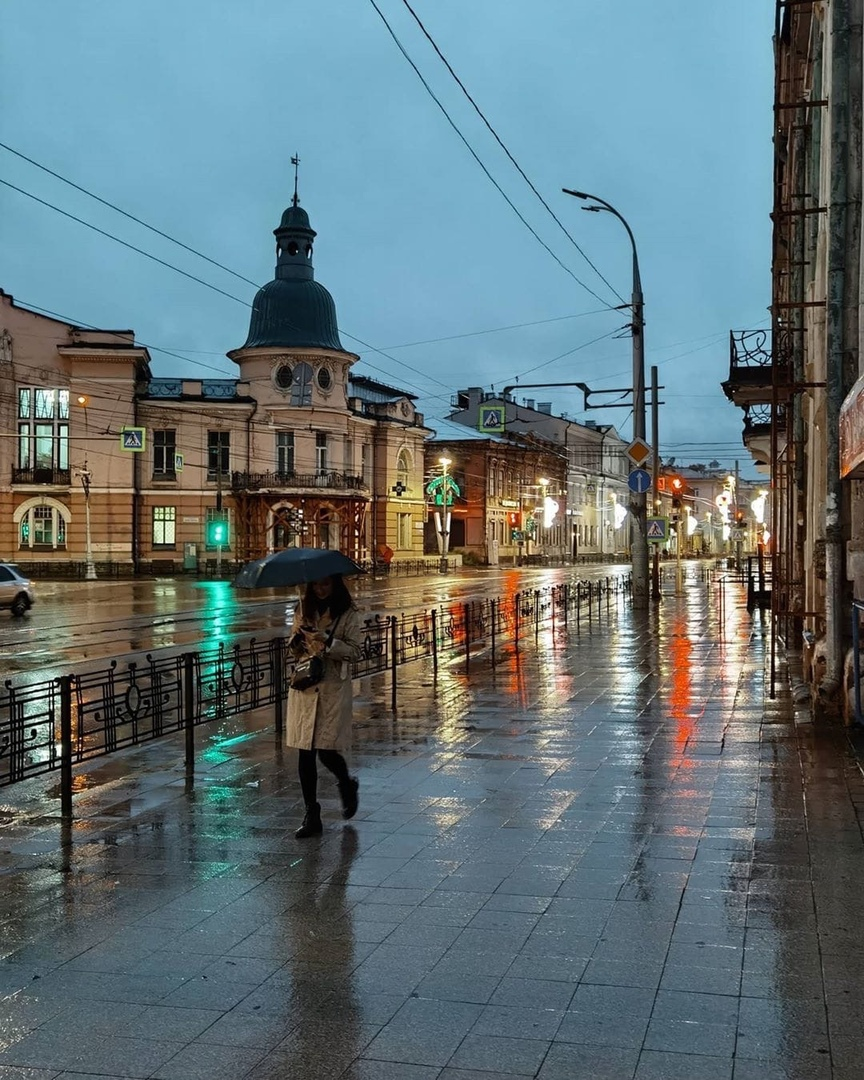sign: (621, 435, 655, 468), (478, 405, 506, 434), (119, 425, 148, 453), (643, 515, 670, 542), (626, 470, 653, 493), (172, 452, 186, 473), (730, 528, 745, 543), (514, 530, 526, 542)
